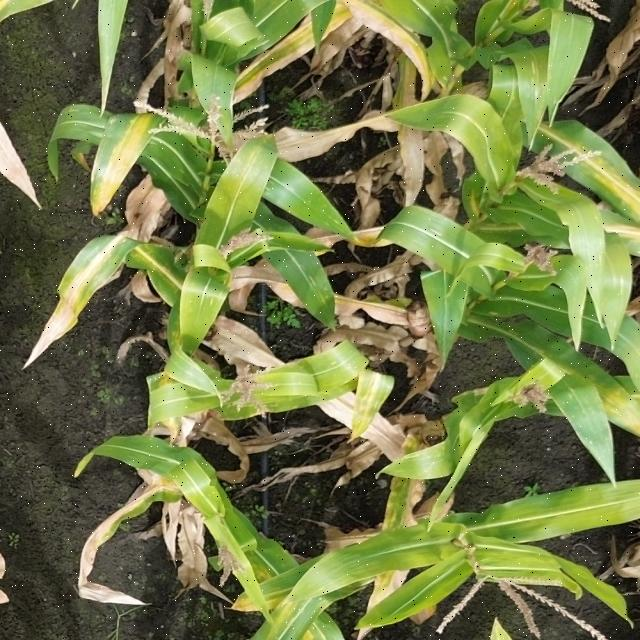gray-leaf-spot: (137, 138, 190, 183), (599, 263, 630, 335), (293, 256, 337, 306), (317, 350, 365, 392), (427, 0, 469, 45), (518, 56, 554, 108), (199, 274, 235, 313)
northern-leaf-blight: (41, 244, 123, 322), (555, 133, 639, 203), (353, 368, 391, 432), (592, 214, 640, 245)
southern-leaf-blight: (555, 388, 610, 446), (295, 185, 348, 230), (242, 549, 291, 581), (410, 448, 458, 480)
